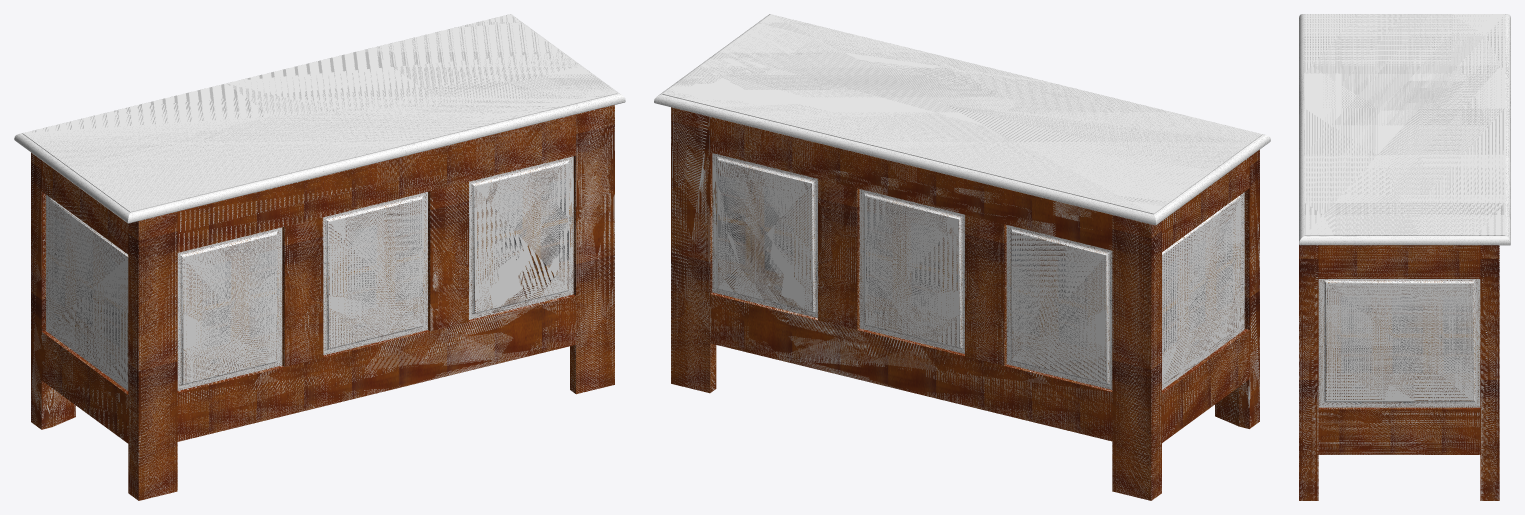
3 renders of one model, left to right at view 1: azimuth 30°, elevation 25°; view 2: azimuth 150°, elevation 25°; view 3: azimuth 270°, elevation 25°, orthographic. The views are drawn at different scales.
Parts seen in each view (by area): view 1: mesh18_mesh18-geometry, mesh8_mesh8-geometry, mesh9_mesh9-geometry, mesh10_mesh10-geometry, mesh6_mesh6-geometry, mesh5_mesh5-geometry, mesh7_mesh7-geometry, mesh13_mesh13-geometry, mesh11_mesh11-geometry, mesh12_mesh12-geometry; view 2: mesh18_mesh18-geometry, mesh2_mesh2-geometry, mesh3_mesh3-geometry, mesh5_mesh5-geometry, mesh4_mesh4-geometry, mesh6_mesh6-geometry, mesh1_mesh1-geometry, mesh13_mesh13-geometry, mesh11_mesh11-geometry, mesh12_mesh12-geometry; view 3: mesh18_mesh18-geometry, mesh16_mesh16-geometry, mesh14_mesh14-geometry, mesh15_mesh15-geometry, mesh5_mesh5-geometry, mesh6_mesh6-geometry.
Boxes of the visible parts, x1,y1,x2,y2 form: mesh18_mesh18-geometry: (14,14,625,223); mesh8_mesh8-geometry: (177,156,573,390); mesh9_mesh9-geometry: (177,294,575,441); mesh10_mesh10-geometry: (177,114,575,252); mesh6_mesh6-geometry: (31,105,614,429); mesh5_mesh5-geometry: (128,212,177,500); mesh7_mesh7-geometry: (282,182,468,366); mesh13_mesh13-geometry: (46,194,128,390); mesh11_mesh11-geometry: (41,330,128,443); mesh12_mesh12-geometry: (41,160,128,254); mesh18_mesh18-geometry: (654,14,1270,225); mesh2_mesh2-geometry: (712,153,1112,389); mesh3_mesh3-geometry: (710,292,1112,441); mesh5_mesh5-geometry: (671,107,1259,428); mesh4_mesh4-geometry: (710,117,1112,250); mesh6_mesh6-geometry: (1112,215,1161,500); mesh1_mesh1-geometry: (818,179,1006,365); mesh13_mesh13-geometry: (1162,192,1244,389); mesh11_mesh11-geometry: (1162,329,1249,442); mesh12_mesh12-geometry: (1162,157,1249,251); mesh18_mesh18-geometry: (1299,14,1510,245); mesh16_mesh16-geometry: (1318,279,1480,407); mesh14_mesh14-geometry: (1318,407,1480,454); mesh15_mesh15-geometry: (1318,245,1480,278); mesh5_mesh5-geometry: (1480,245,1499,500); mesh6_mesh6-geometry: (1299,245,1318,500).
Size of the model in its own units: 0.8268 by 0.4575 by 0.3273.
